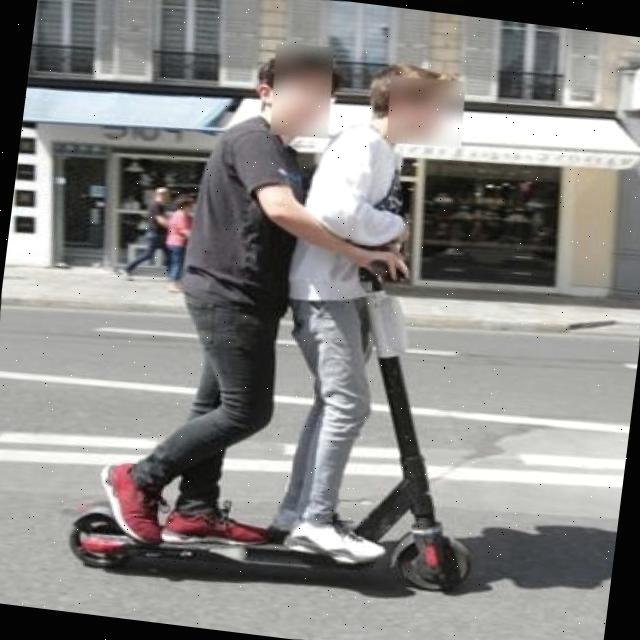bare_head: (363, 55, 468, 154), (251, 44, 344, 140)
human: (256, 53, 466, 541), (135, 45, 327, 535)
kickboard: (55, 474, 479, 606)
